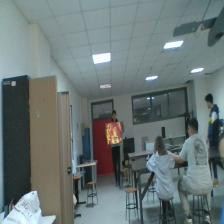fire-poster: (107, 122, 122, 144)
